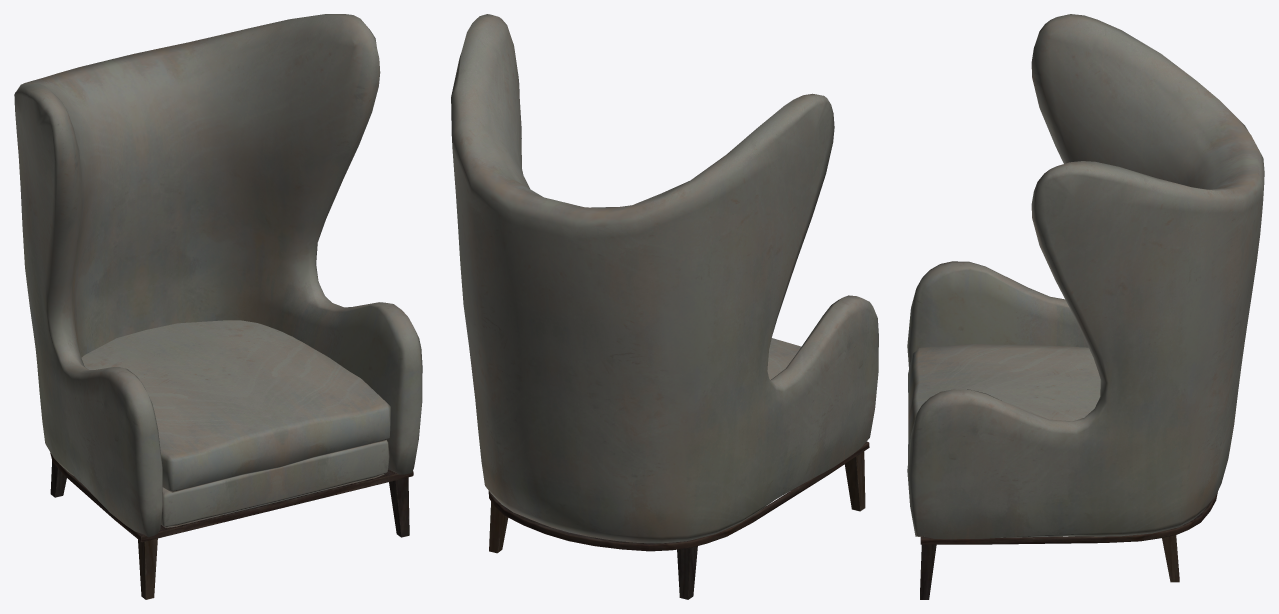
File: SM_Armchair.glb
3 renders of one model, left to right at view 1: azimuth 30°, elevation 25°; view 2: azimuth 150°, elevation 25°; view 3: azimuth 270°, elevation 25°, orthographic. The views are drawn at different scales.
Visible parts, largest first — view 1: SM_Armchair; view 2: SM_Armchair; view 3: SM_Armchair.
Boxes of the visible parts, x1,y1,x2,y2 form: SM_Armchair: (14, 14, 422, 599); SM_Armchair: (451, 14, 878, 599); SM_Armchair: (907, 14, 1264, 599).
Size of the model in its own units: 0.9046 by 1.2 by 0.8701.
Materials: 1 (1 with a texture image).
